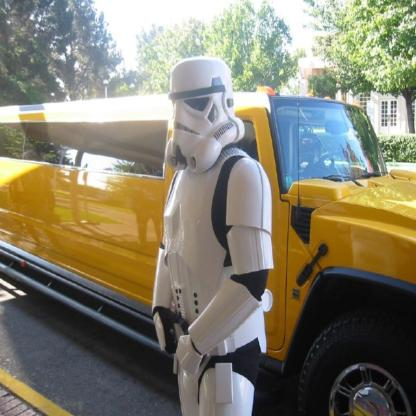Helmet: (162, 60, 240, 162)
